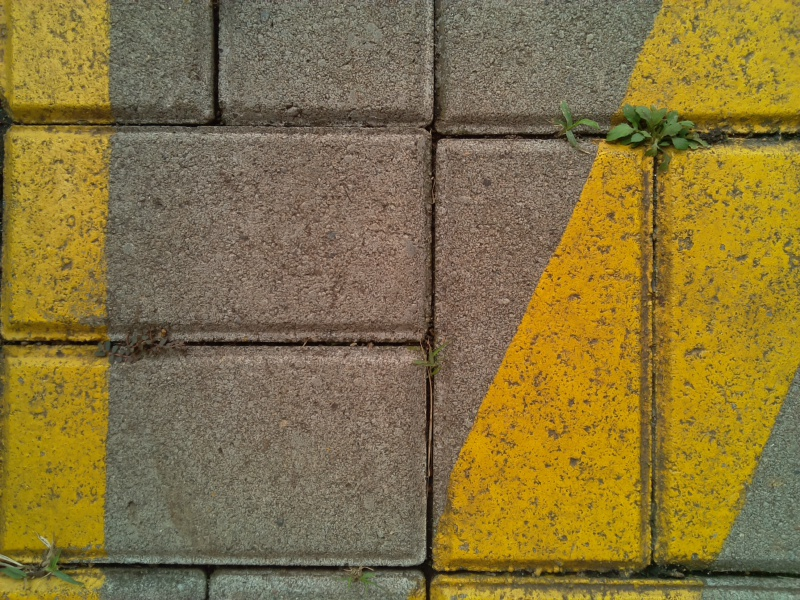Weed: (604, 102, 709, 158), (1, 540, 84, 592), (93, 324, 184, 363), (548, 98, 601, 161), (335, 556, 384, 592), (408, 337, 445, 378)
